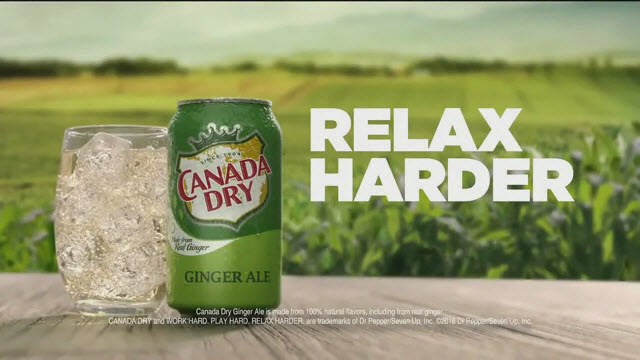Lata: (167, 97, 285, 328)
